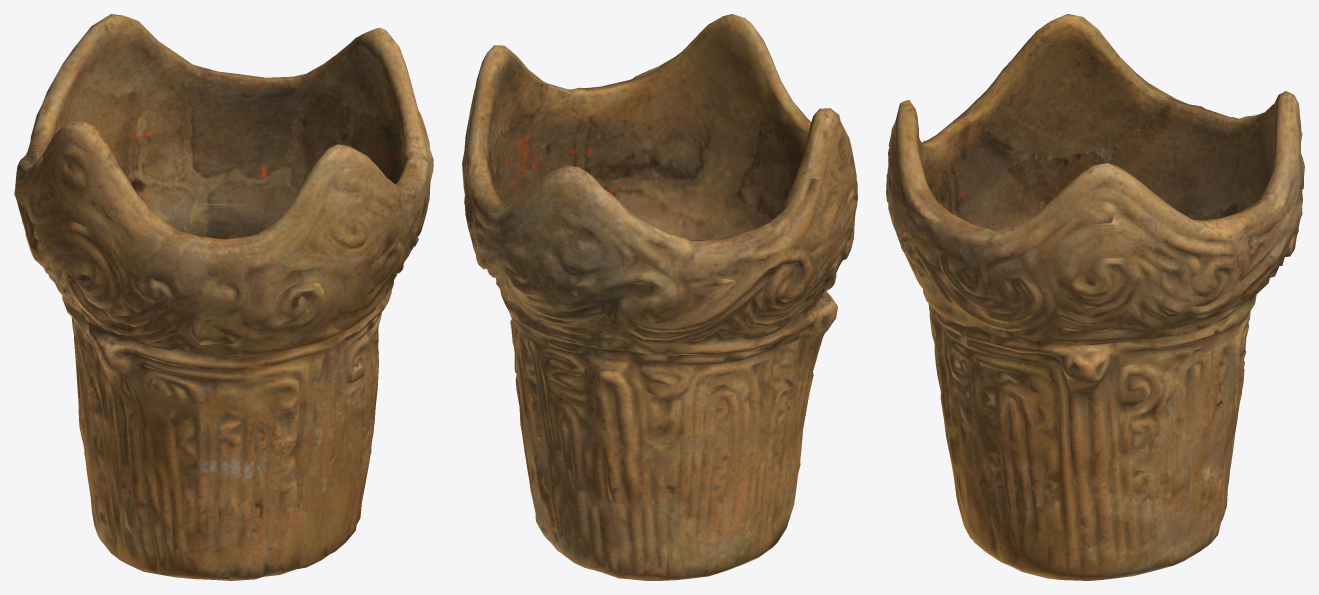
3 views of the same model, side by side, from view 1: azimuth 30°, elevation 25°; view 2: azimuth 150°, elevation 25°; view 3: azimuth 270°, elevation 25° (orthographic). The views are drawn at different scales.
Parts seen in each view (by area): view 1: UD0302_low; view 2: UD0302_low; view 3: UD0302_low.
Part boxes in pixels (x1=…): UD0302_low: x1=14, y1=14, x2=433, y2=580; UD0302_low: x1=462, y1=14, x2=857, y2=580; UD0302_low: x1=886, y1=14, x2=1304, y2=580.
Bounding box in the file's own units: 185 × 227 × 192.
1 material, 1 textured.
